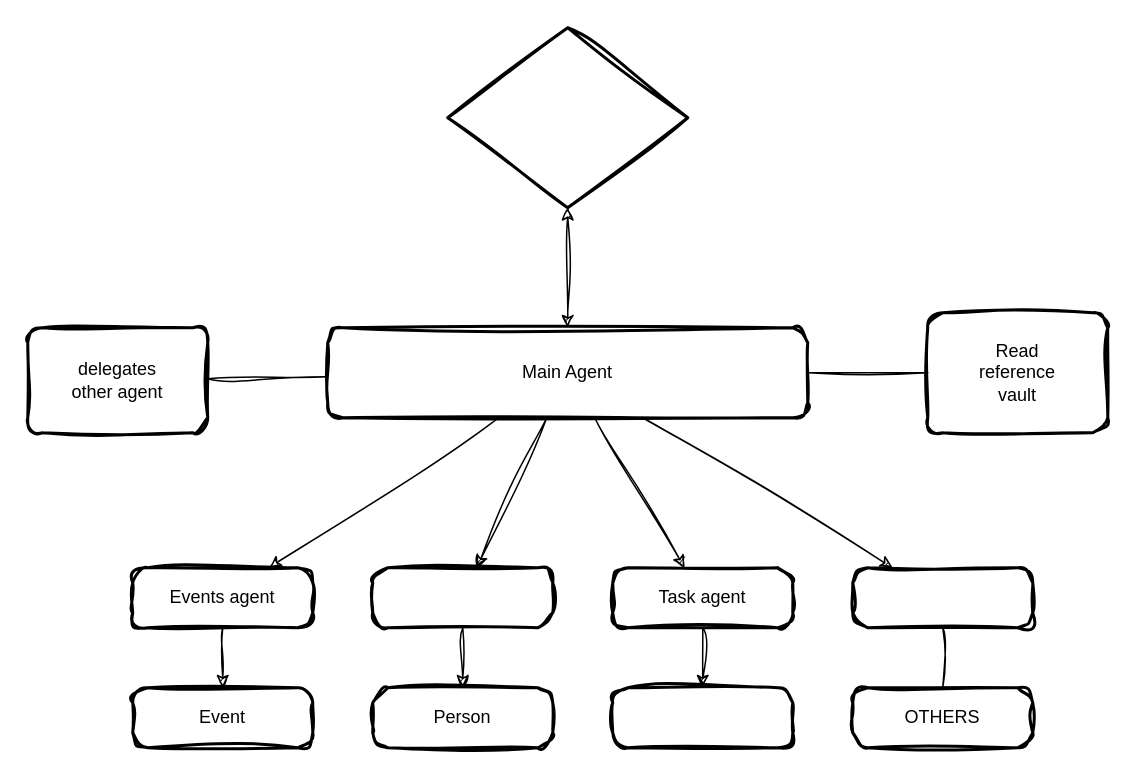
This 1134x774 diagram has some shape labels left out. Here are the shapes that lost their labels. From the top down, the centre of each, then its label:
At pixel 567 117: "Gemini LLM".
At pixel 462 597: "Person agent".
At pixel 942 597: "Anything agent".
At pixel 702 717: "Task".
